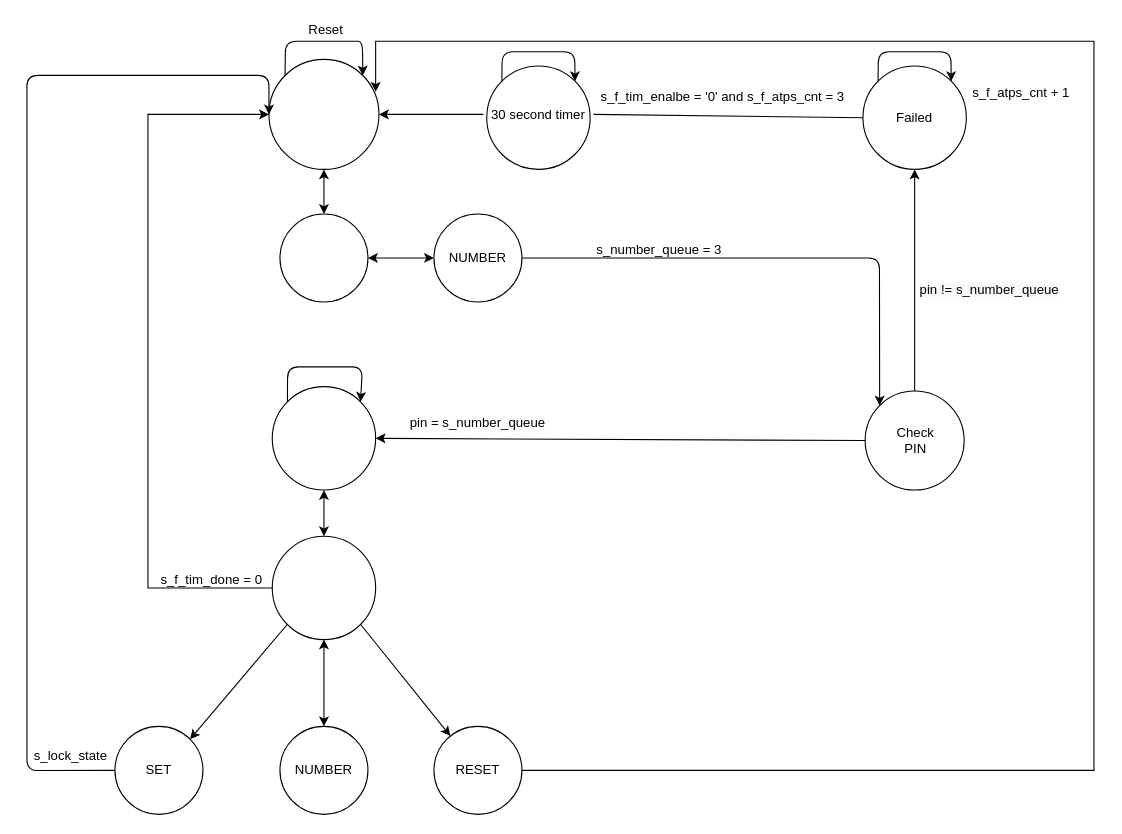
Image size: 1122x834. Some labels were removed from this diagram. Each missing label, with the centre of its shape:
30 second timer + Keyboard input: (x=323, y=587)
Keyboard input: (x=323, y=257)
Locked: (x=323, y=113)
Unlocked: (x=323, y=438)
